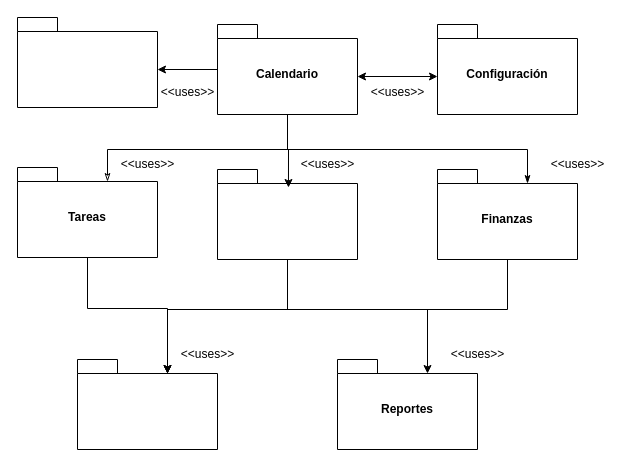
Image size: 635x467. Some labels were removed from this diagram. The shapes that lost their labels are listed below. From the top down, each one's centre as x and y in pixels, then its label:
[87,62]: Usuario
[287,214]: Eventos
[147,404]: Notificaciones
